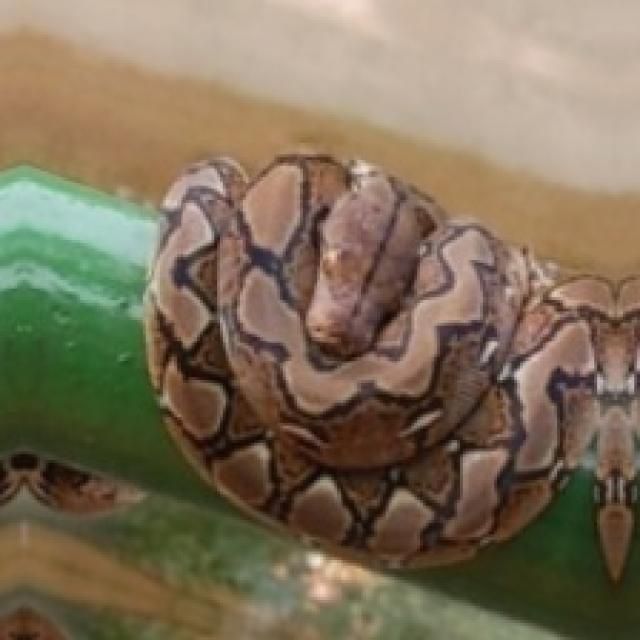reticulated python: (146, 154, 637, 580), (0, 451, 140, 511)
